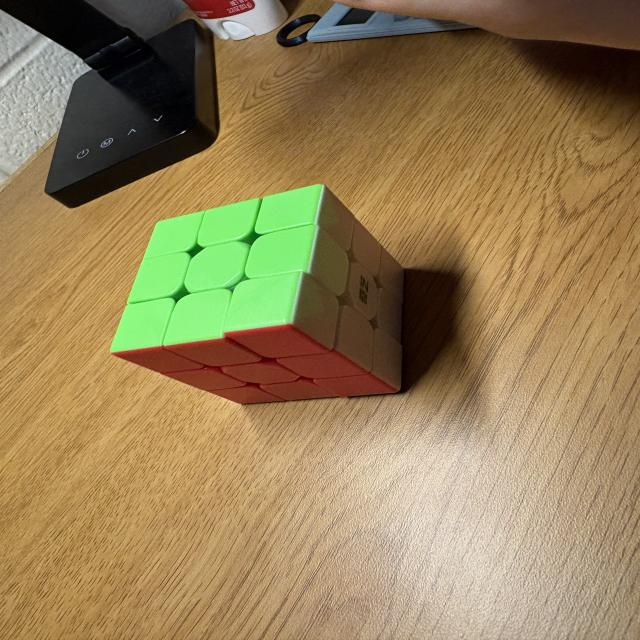Rubiks Cube: (108, 183, 406, 406)
